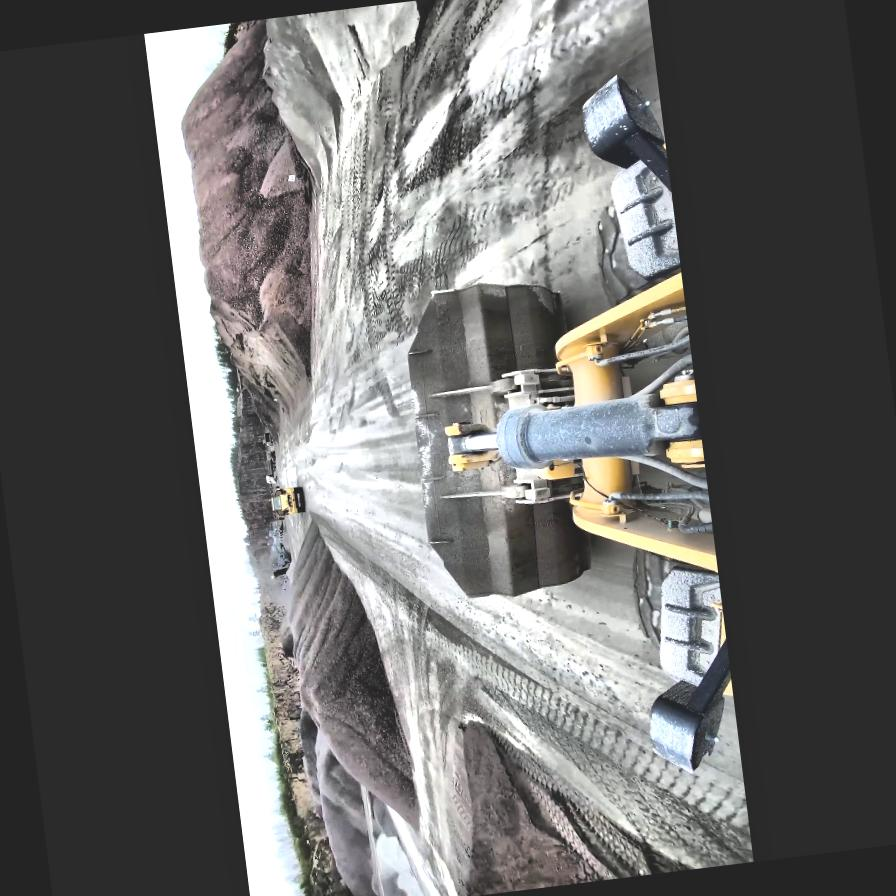anchor: (443, 419, 500, 473)
pile of gravel: (168, 15, 342, 424), (274, 511, 422, 849), (444, 701, 623, 896), (255, 11, 352, 191), (311, 723, 380, 896), (295, 703, 329, 815)
